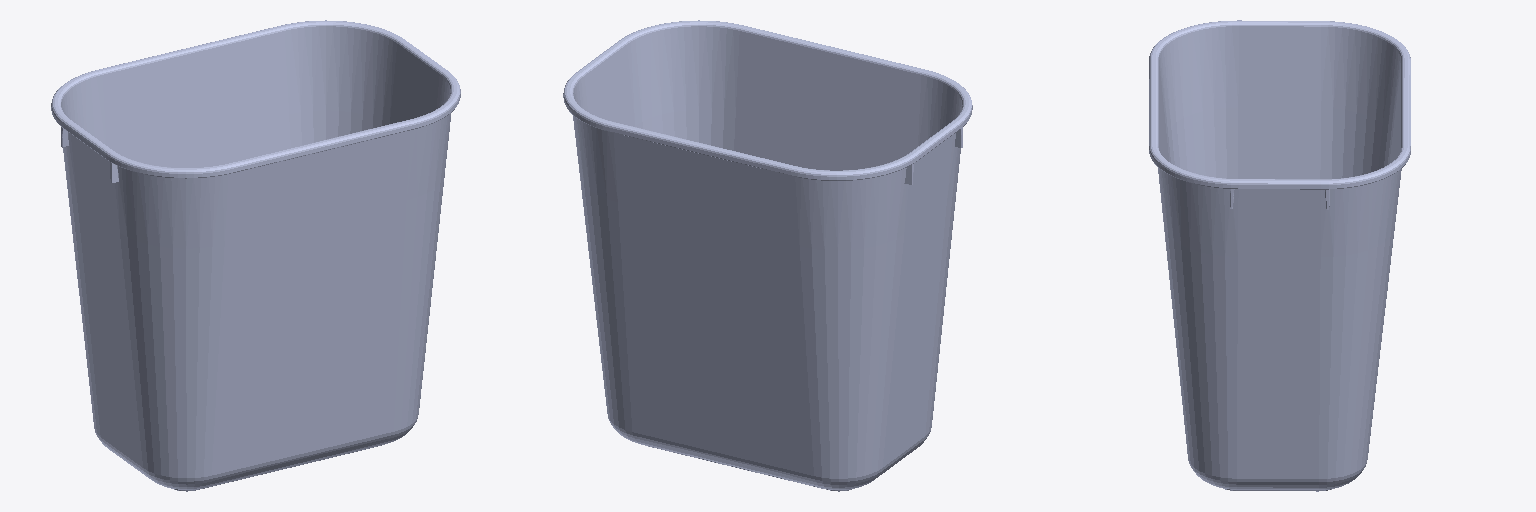
URDF robot description (recycling_bin):
<robot
  name="recycling_bin">
  <link
    name="recycling_bin">
    <inertial>
      <origin
        xyz="0.10451 -0.18158 0.055891"
        rpy="0 0 0" />
      <mass
        value="1.4597" />
      <inertia
        ixx="0.0344638184536895"
        ixy="-5.60042153569038E-08"
        ixz="1.08352869530788E-10"
        iyy="0.0337018404615288"
        iyz="3.72324284817901E-08"
        izz="0.0452733699775283" />
    </inertial>
    <visual>
      <origin
        xyz="0 0 0"
        rpy="0 0 0" />
      <geometry>
        <mesh
          filename="package://recycling_bin/meshes/recycling_bin.dae" />
      </geometry>
      <material
        name="">
        <color
          rgba="0.79216 0.81961 0.93333 1" />
      </material>
    </visual>
    <collision>
      <origin
        xyz="0 0 0"
        rpy="0 0 0" />
      <geometry>
        <mesh
          filename="package://recycling_bin/meshes/recycling_bin.dae" />
      </geometry>
    </collision>
  </link>
</robot>

--- Facts derived from the render (not from the file) ---
3 views of the same robot in one strip: view 1: azimuth 30°, elevation 25°; view 2: azimuth 150°, elevation 25°; view 3: azimuth 270°, elevation 25° (orthographic).
Model recycling_bin with 1 links and 0 joints (none), rooted at recycling_bin, posed every joint at zero.
Links seen in each view (by area): view 1: recycling_bin; view 2: recycling_bin; view 3: recycling_bin.
Link boxes in pixels (x1,y1,x2,y2): recycling_bin: [51, 20, 460, 491]; recycling_bin: [563, 20, 972, 491]; recycling_bin: [1149, 20, 1410, 491].
Bounding box of the posed robot: 0.4014 × 0.2745 × 0.3937 m (x, y, z).
1 mesh visuals loaded from 1 distinct referenced files (1 Collada DAE).